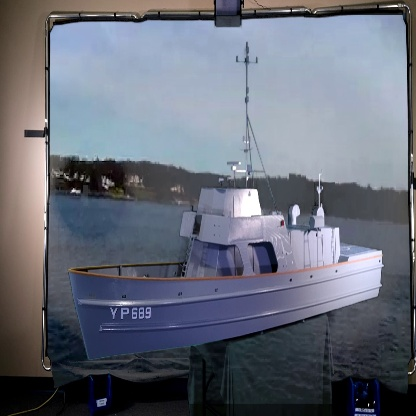YP689: (67, 39, 386, 365)
